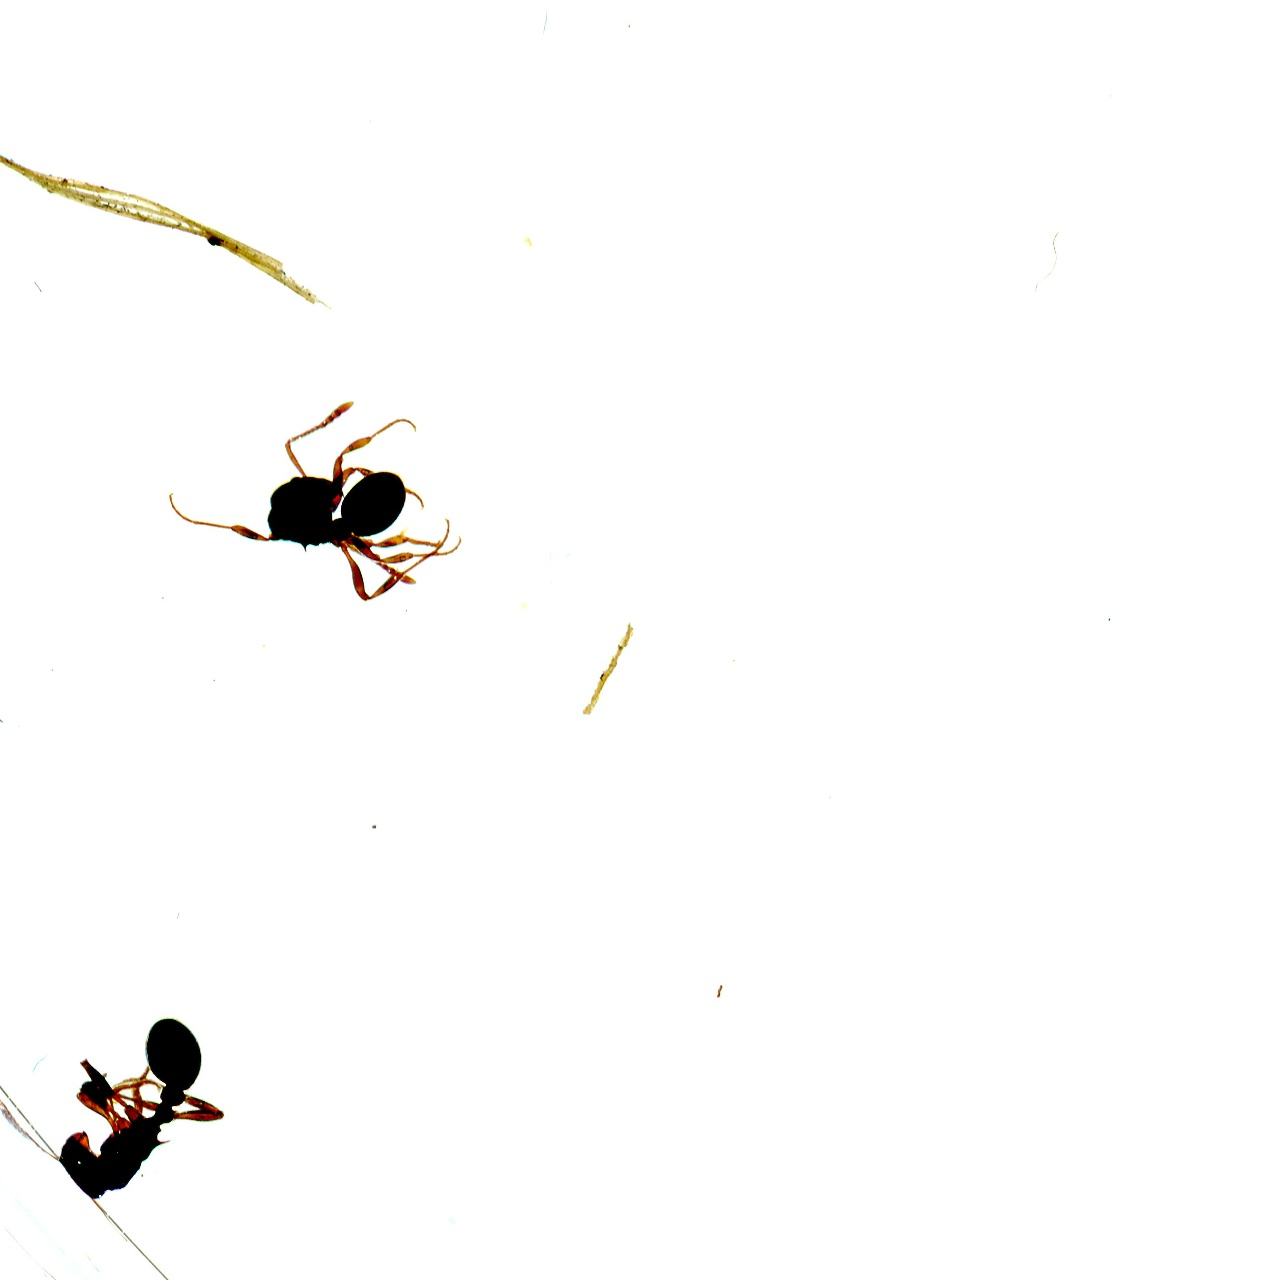arthropod: (0, 948, 265, 1240), (155, 393, 471, 601)
